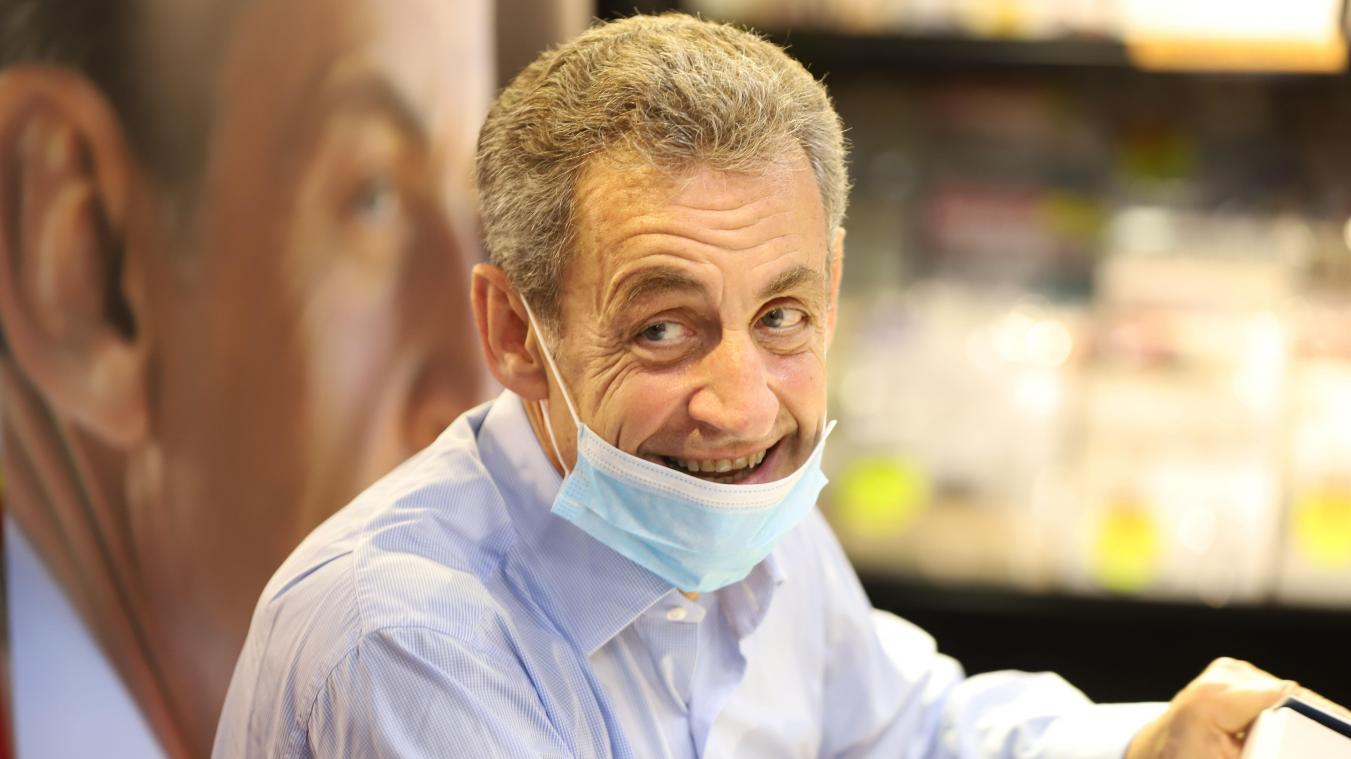with_incorrect_mask: (483, 102, 860, 593)
